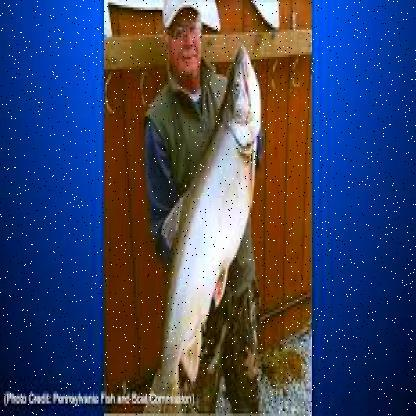fish: (138, 44, 262, 414)
